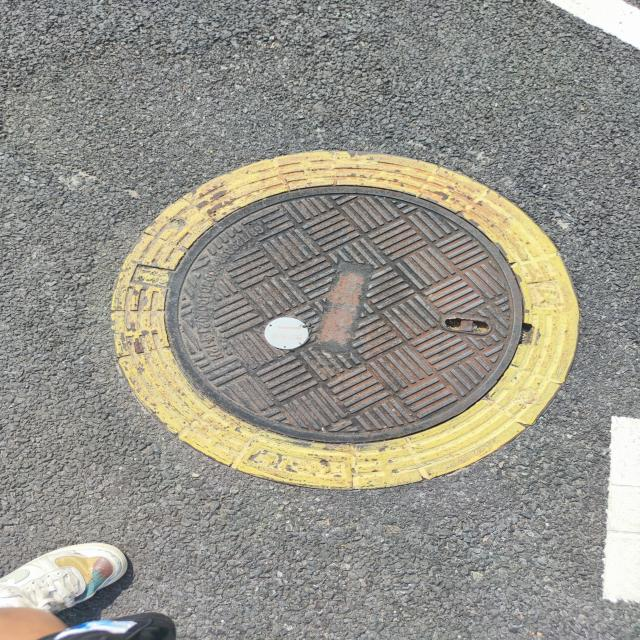Good: (103, 143, 591, 496)
